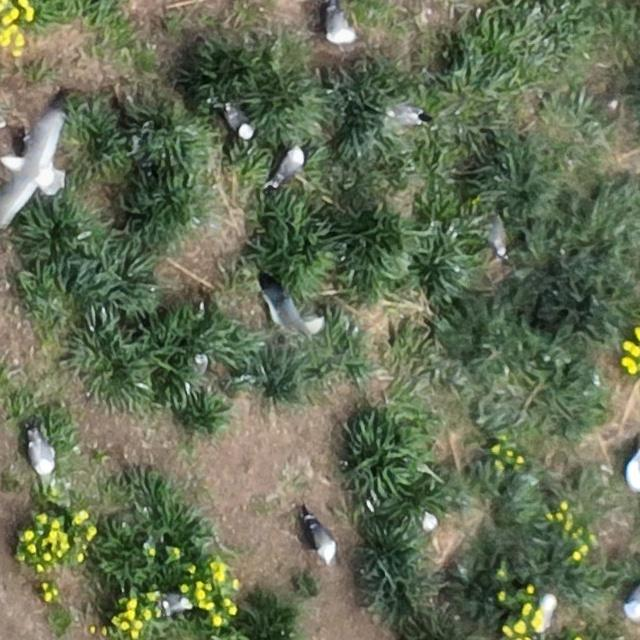F: (1, 100, 67, 222)
umineko: (322, 4, 355, 45), (308, 522, 336, 562), (276, 148, 305, 182), (31, 436, 54, 475), (534, 595, 562, 624), (226, 107, 252, 138), (160, 593, 190, 612), (625, 590, 640, 618)
